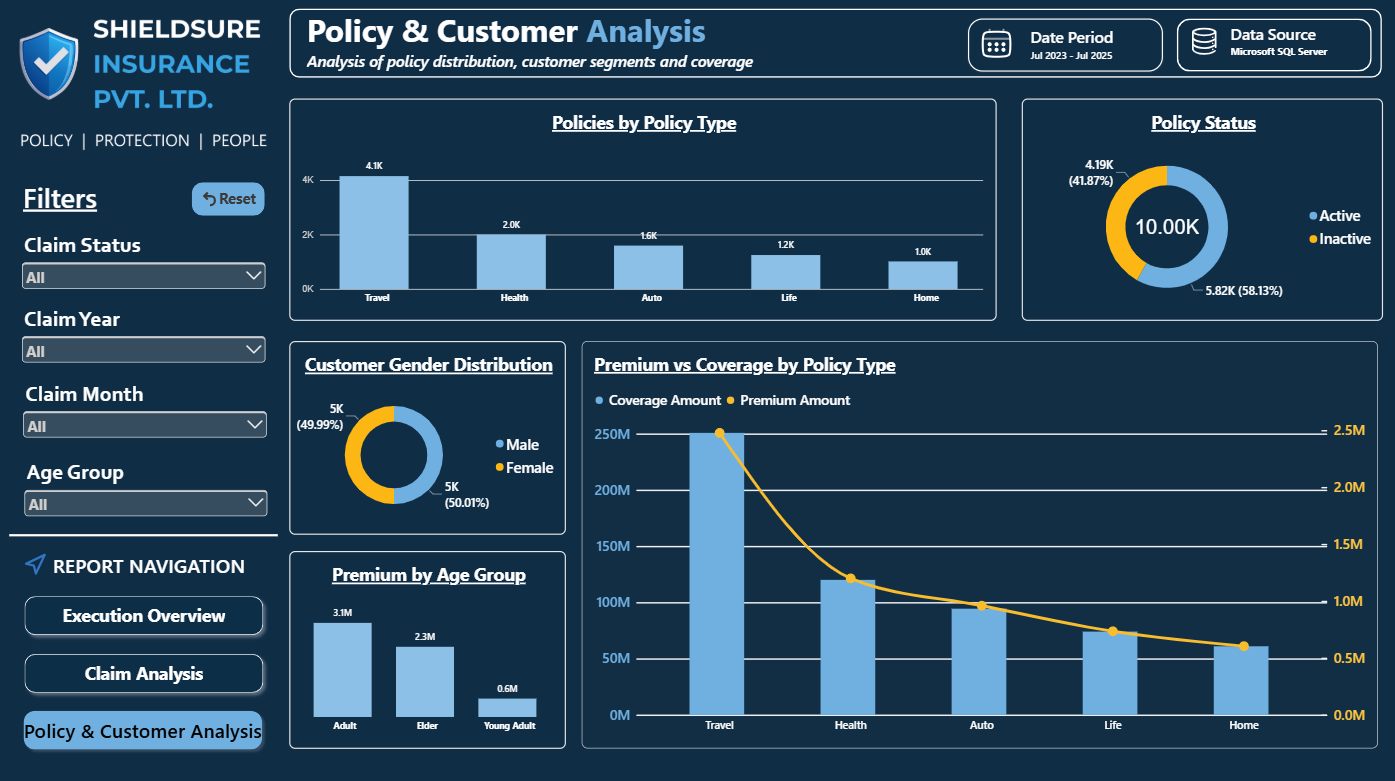

The page's visual inventory and layout, read from the dashboard file:
{"tool":"powerbi","page":{"name":"Policy & Customer Analysis","canvas":[1920,1080],"ordinal":2},"visuals":[{"type":"shape","box":[400,17.5,1497.5,95],"z":0},{"type":"slicer","fields":{"Values":["InsuranceData.ClaimStatus"]},"box":[26,320,347.5,105],"z":1000},{"type":"columnChart","title":"Policies by Policy Type","fields":{"Category":["InsuranceData.PolicyType"],"Y":["CountNonNull(InsuranceData.PolicyType)"]},"box":[399.8,140.1,969.5,304.5],"z":2000},{"type":"slicer","fields":{"Values":["InsuranceData.Age Group"]},"box":[28.5,631.5,346.7,107.2],"z":3000},{"type":"slicer","fields":{"Values":["InsuranceData.ClaimDate.Variation.Date Hierarchy.Month"]},"box":[27.5,525,347.5,105],"z":4000},{"type":"textbox","box":[400,760,214,150],"z":5000},{"type":"textbox","box":[400,930,174,94],"z":6000},{"type":"textbox","box":[34,250,126,53],"z":7000},{"type":"image","box":[16,18,368,198],"z":8000},{"type":"textbox","box":[422.5,17.5,712.5,95],"z":9000},{"type":"shape","box":[15.9,715.5,368.2,45.9],"z":10000},{"type":"textbox","box":[75.2,763.1,325.7,57.8],"z":11000},{"type":"image","box":[30.8,763.1,41.3,32.7],"z":12000},{"type":"pageNavigator","box":[26.7,813.3,345,231.7],"z":13000},{"type":"donutChart","title":"Policy Status","fields":{"Category":["InsuranceData.ACTIVE/INACTIVE"],"Y":["CountNonNull(InsuranceData.ACTIVE/INACTIVE)"]},"box":[1402.9,140.1,495,304.5],"z":14000},{"type":"columnChart","title":"Premium by Age Group","fields":{"Category":["InsuranceData.Age Group"],"Y":["Sum(InsuranceData.PremiumAmount)"]},"box":[399.8,760.3,379.2,270.9],"z":15000},{"type":"donutChart","title":"Customer Gender Distribution","fields":{"Category":["InsuranceData.Gender"],"Y":["CountNonNull(InsuranceData.Gender)"]},"box":[399.8,472.6,379.2,265.3],"z":16000},{"type":"lineStackedColumnComboChart","title":"Premium vs Coverage by Policy Type","fields":{"Category":["InsuranceData.PolicyType"],"Y":["Sum(InsuranceData.CoverageAmount)"],"Y2":["Sum(InsuranceData.PremiumAmount)"]},"box":[799.5,472.6,1091,558.6],"z":17000},{"type":"slicer","fields":{"Values":["InsuranceData.ClaimDate.Variation.Date Hierarchy.Year"]},"box":[26,422,347.5,105],"z":18000},{"type":"actionButton","box":[265,255,100,46],"z":19000},{"type":"cardVisual","fields":{"Data":["InsuranceData.Date Period"]},"box":[1329.1,30,267.3,72.7],"z":20000},{"type":"shape","box":[1615.5,30,267.3,72.7],"z":21000},{"type":"image","box":[1335,35,68.3,60],"z":22000},{"type":"image","box":[1636.7,41.3,40,43.3],"z":23000},{"type":"textbox","box":[1688.5,37.1,177.5,53.3],"z":23001}]}

Visuals, with their boxes in screenshot pixels (x1, y1, x2, y2), scaled from the page's 1920x1080 canvas onto the 1395x781 screenshot:
shape: BBox(291, 13, 1379, 81)
slicer - InsuranceData.ClaimStatus: BBox(19, 231, 271, 307)
"Policies by Policy Type" columnChart: BBox(290, 101, 995, 322)
slicer - InsuranceData.Age Group: BBox(21, 457, 273, 534)
slicer - InsuranceData.ClaimDate.Variation.Date Hierarchy.Month: BBox(20, 380, 272, 456)
textbox: BBox(291, 550, 446, 658)
textbox: BBox(291, 673, 417, 741)
textbox: BBox(25, 181, 116, 219)
image: BBox(12, 13, 279, 156)
textbox: BBox(307, 13, 825, 81)
shape: BBox(12, 517, 279, 551)
textbox: BBox(55, 552, 291, 594)
image: BBox(22, 552, 52, 575)
pageNavigator: BBox(19, 588, 270, 756)
"Policy Status" donutChart: BBox(1019, 101, 1379, 322)
"Premium by Age Group" columnChart: BBox(290, 550, 566, 746)
"Customer Gender Distribution" donutChart: BBox(290, 342, 566, 534)
"Premium vs Coverage by Policy Type" lineStackedColumnComboChart: BBox(581, 342, 1374, 746)
slicer - InsuranceData.ClaimDate.Variation.Date Hierarchy.Year: BBox(19, 305, 271, 381)
actionButton: BBox(193, 184, 265, 218)
cardVisual - InsuranceData.Date Period: BBox(966, 22, 1160, 74)
shape: BBox(1174, 22, 1368, 74)
image: BBox(970, 25, 1020, 69)
image: BBox(1189, 30, 1218, 61)
textbox: BBox(1227, 27, 1356, 65)
